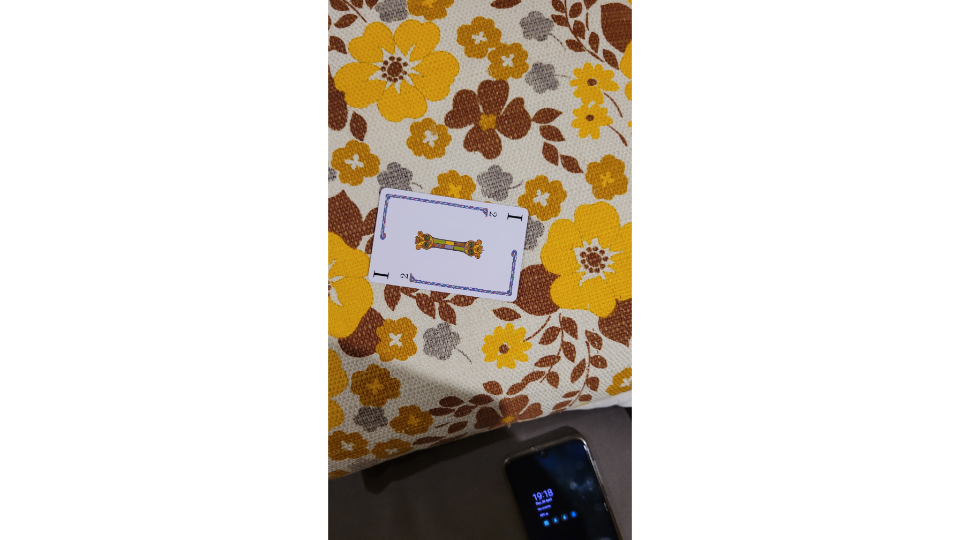I: (364, 184, 534, 307)
